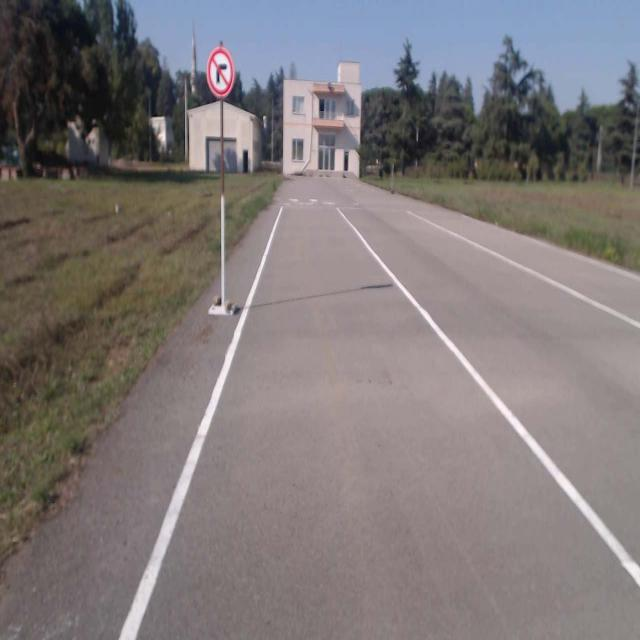sagadonulmez: (207, 50, 233, 96)
